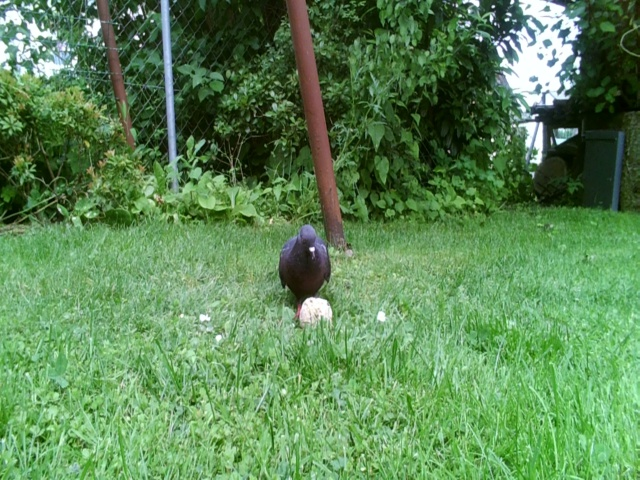Pigeon: (275, 219, 336, 307)
